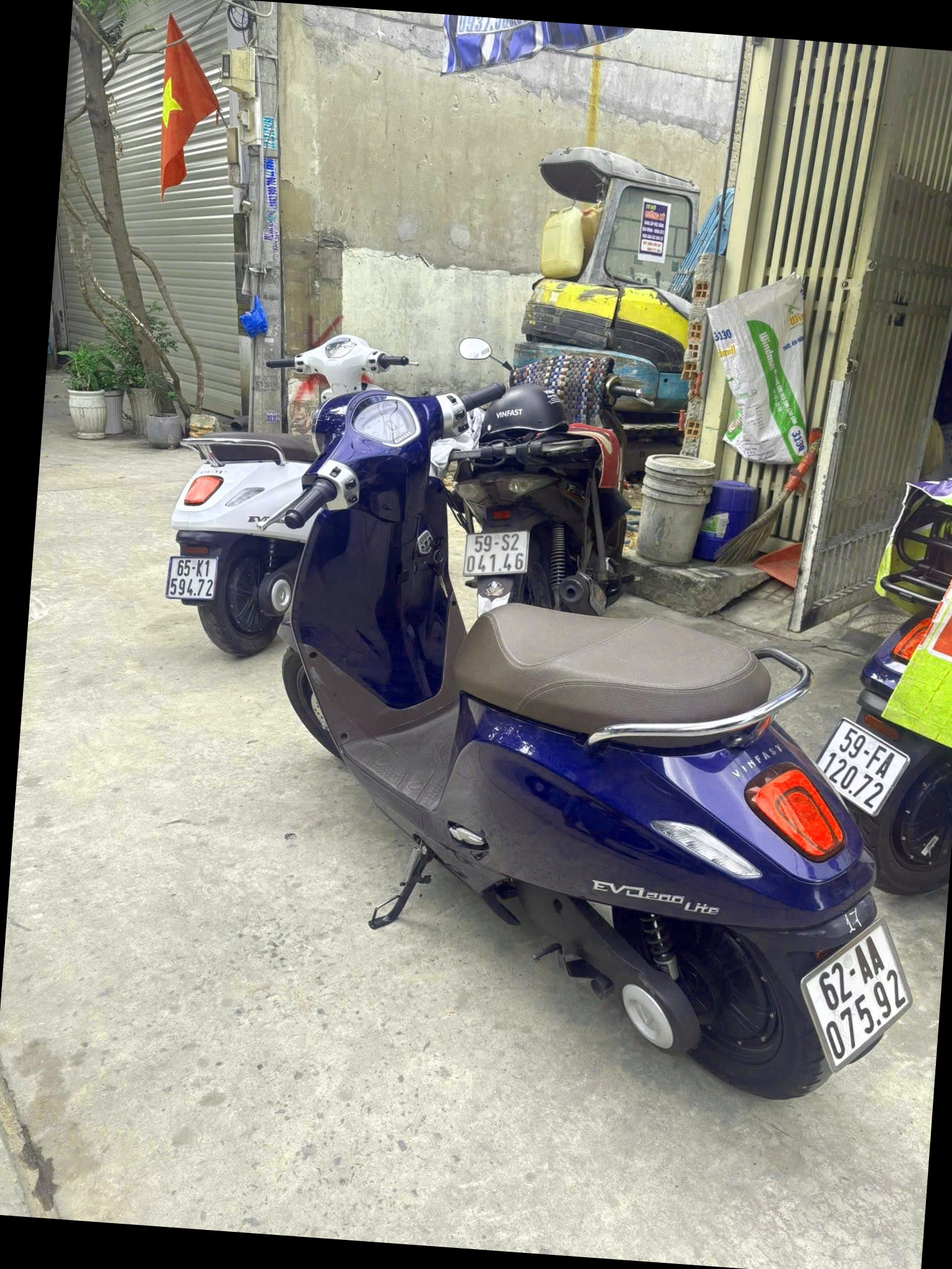Bien-so: (788, 875, 900, 1035), (796, 677, 885, 785), (438, 511, 506, 563), (151, 549, 197, 599)
